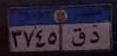3: (10, 28, 22, 49)
4: (35, 28, 46, 49)
5: (46, 31, 57, 45)
7: (22, 28, 34, 47)
daal: (89, 30, 101, 46)
qaaf: (70, 27, 87, 48)
